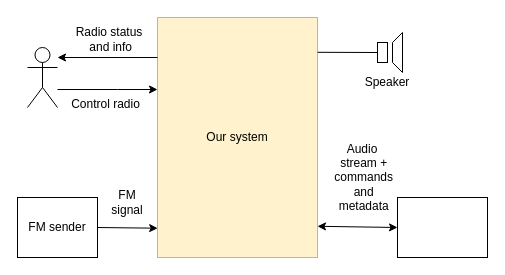
This 505x275 diagram has some shape labels left out. The centre of each missing label's shape, as x and y in pixels:
Modern audio stream source: point 442,227
User: point 42,77
